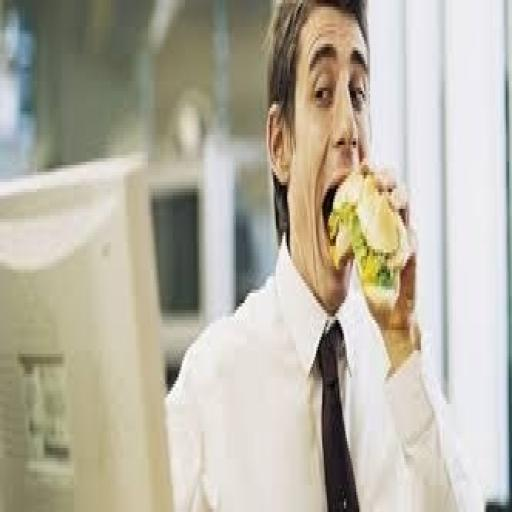eating: (162, 0, 483, 505)
